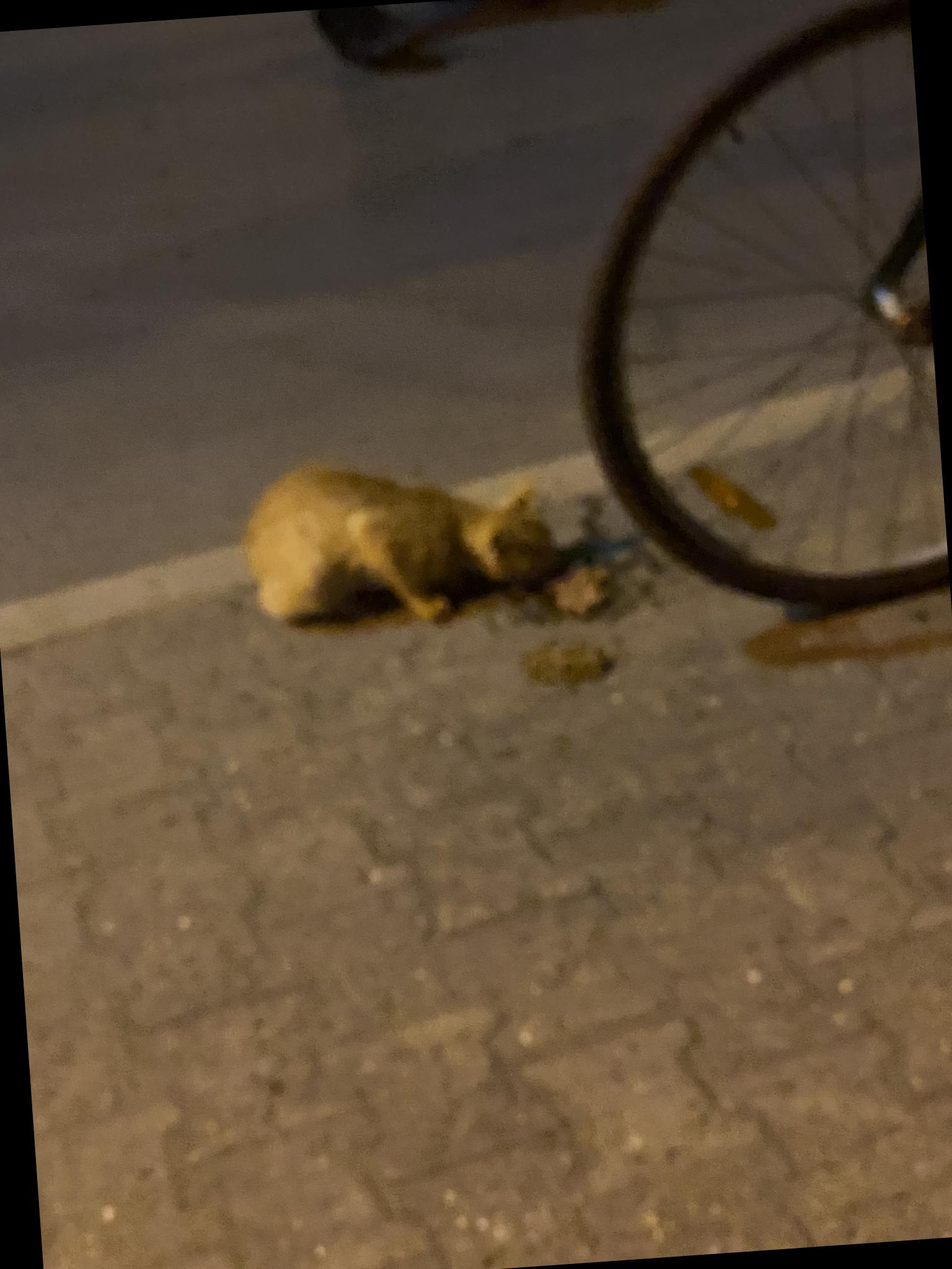macka: (237, 446, 562, 636)
